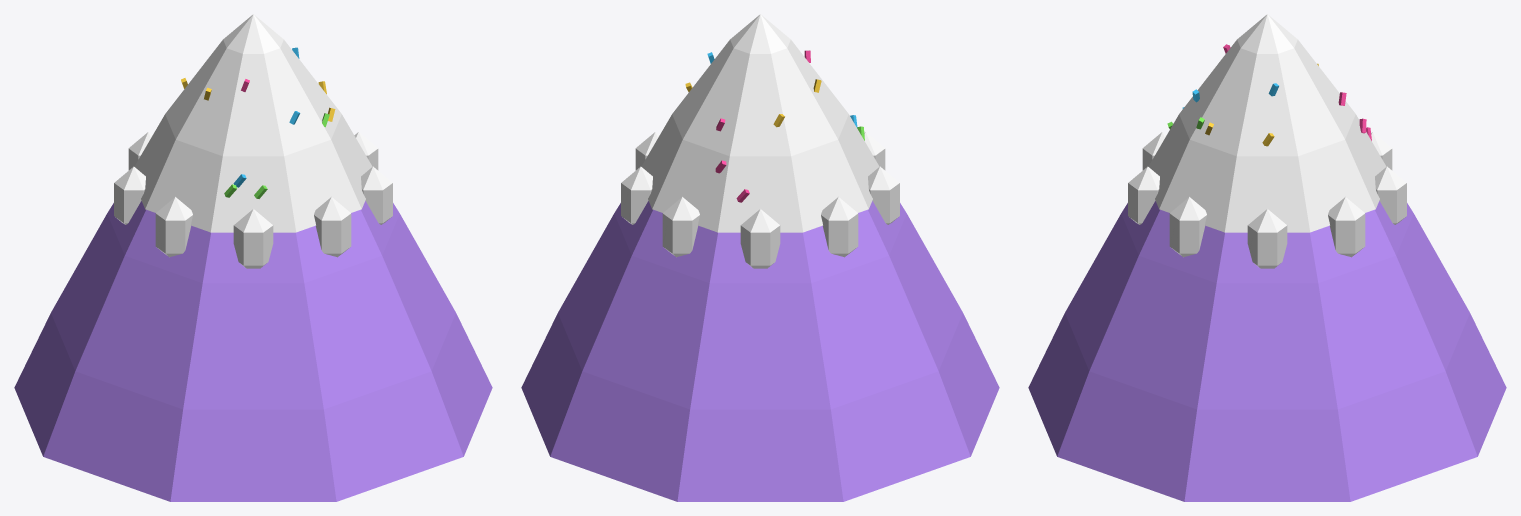
The model's file is frosted_peak.fbx.
3 views of the same model, side by side, from view 1: azimuth 30°, elevation 25°; view 2: azimuth 150°, elevation 25°; view 3: azimuth 270°, elevation 25° (orthographic).
Visible parts, largest first — view 1: Rock, Frost, Sprinkles; view 2: Rock, Frost, Sprinkles; view 3: Rock, Frost, Sprinkles.
Part boxes in pixels (x1=…): Rock: x1=14, y1=201, x2=492, y2=501; Frost: x1=114, y1=14, x2=392, y2=268; Sprinkles: x1=181, y1=47, x2=335, y2=198; Rock: x1=521, y1=201, x2=999, y2=501; Frost: x1=621, y1=14, x2=899, y2=268; Sprinkles: x1=685, y1=50, x2=864, y2=202; Rock: x1=1028, y1=201, x2=1506, y2=501; Frost: x1=1128, y1=14, x2=1406, y2=268; Sprinkles: x1=1167, y1=44, x2=1371, y2=146.
Size of the model in its own units: 16.49 by 15.12 by 16.74.
